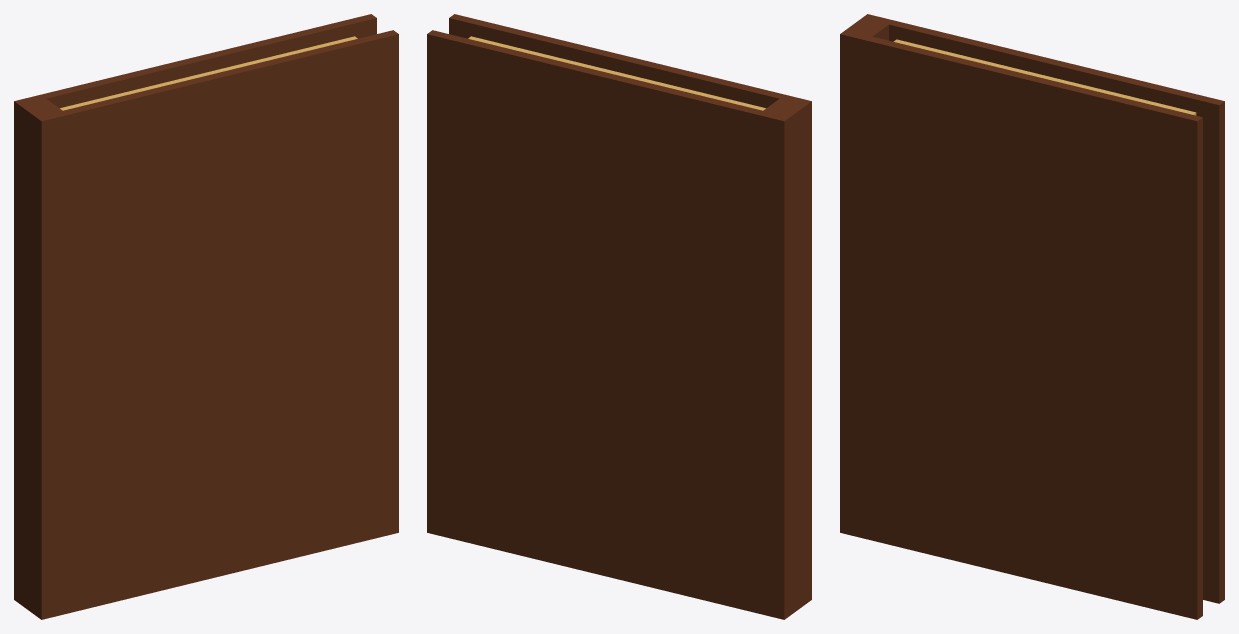
Rendered from Cuaderno+PapelCuadernoParte1.fbx.
3 renders of one model, left to right at view 1: azimuth 30°, elevation 25°; view 2: azimuth 150°, elevation 25°; view 3: azimuth 330°, elevation 25°, orthographic.
Parts seen in each view (by area): view 1: Cuaderno; view 2: Cuaderno; view 3: Cuaderno.
Part boxes in pixels (x1,y1,x2,y2): Cuaderno: [14, 14, 398, 619]; Cuaderno: [427, 14, 811, 619]; Cuaderno: [840, 14, 1224, 619].
Bounding box in the file's own units: 15 × 20 × 2.
